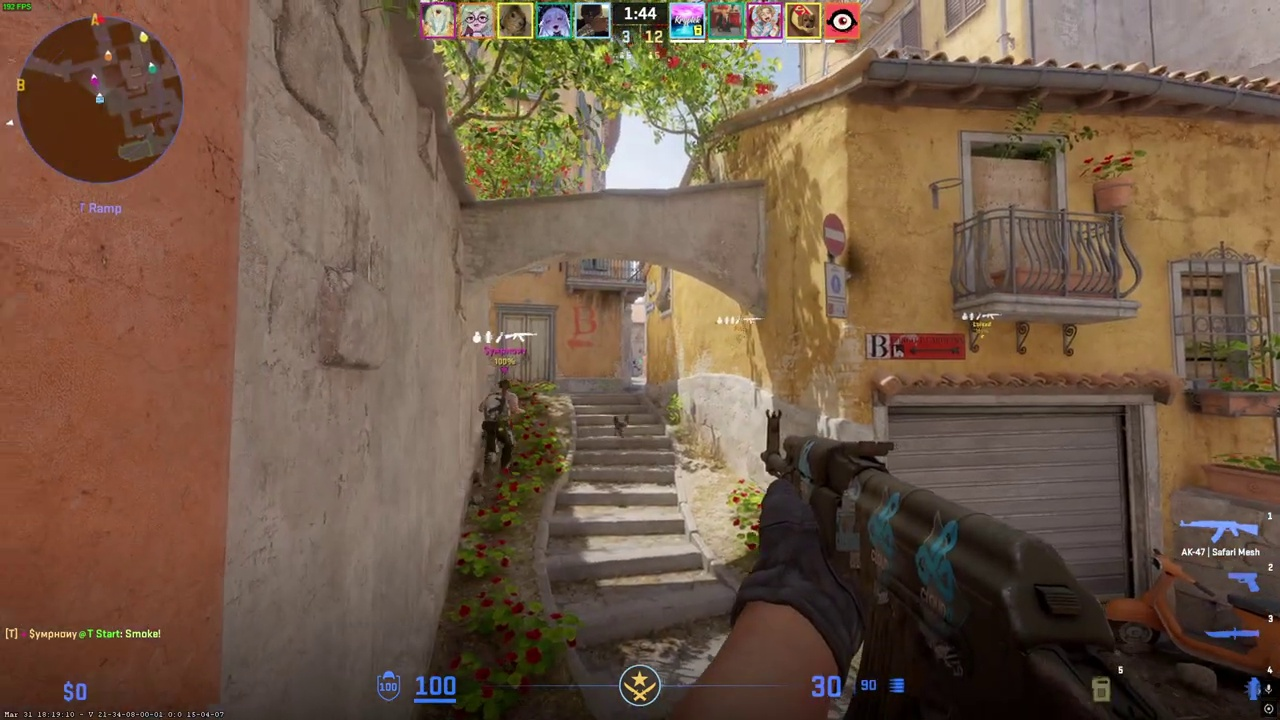Terrorist: (479, 379, 520, 473)
